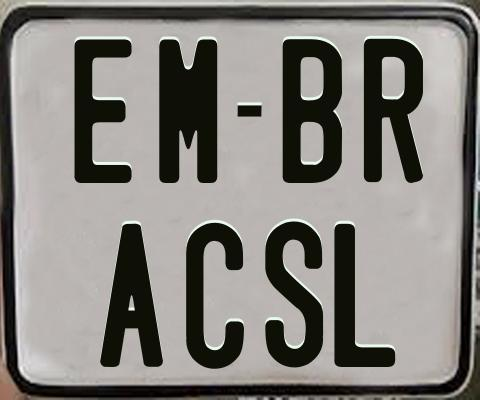A: (97, 222, 161, 369)
B: (280, 38, 340, 184)
C: (183, 220, 247, 366)
E: (74, 37, 136, 181)
L: (334, 222, 396, 368)
M: (159, 38, 220, 182)
R: (362, 37, 426, 185)
S: (265, 221, 326, 372)
